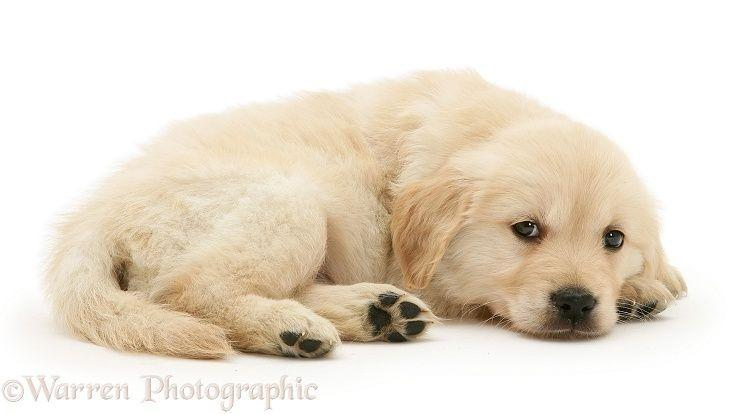puppy-dog: (42, 67, 688, 361)
